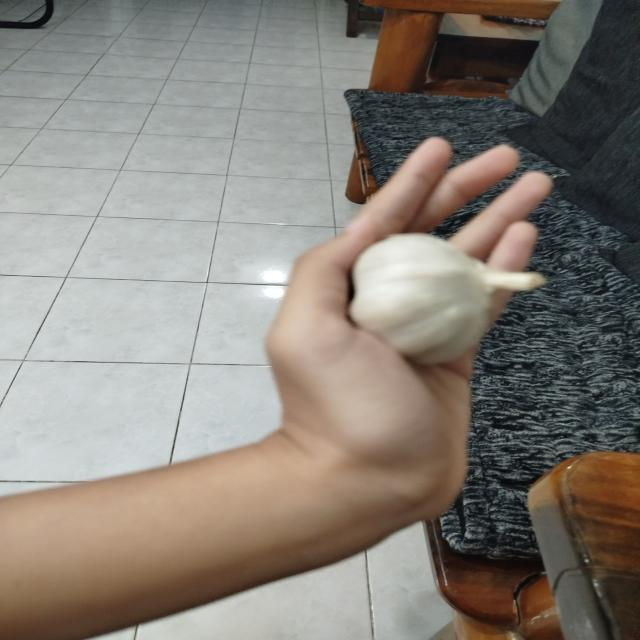garlic: (348, 232, 547, 366)
